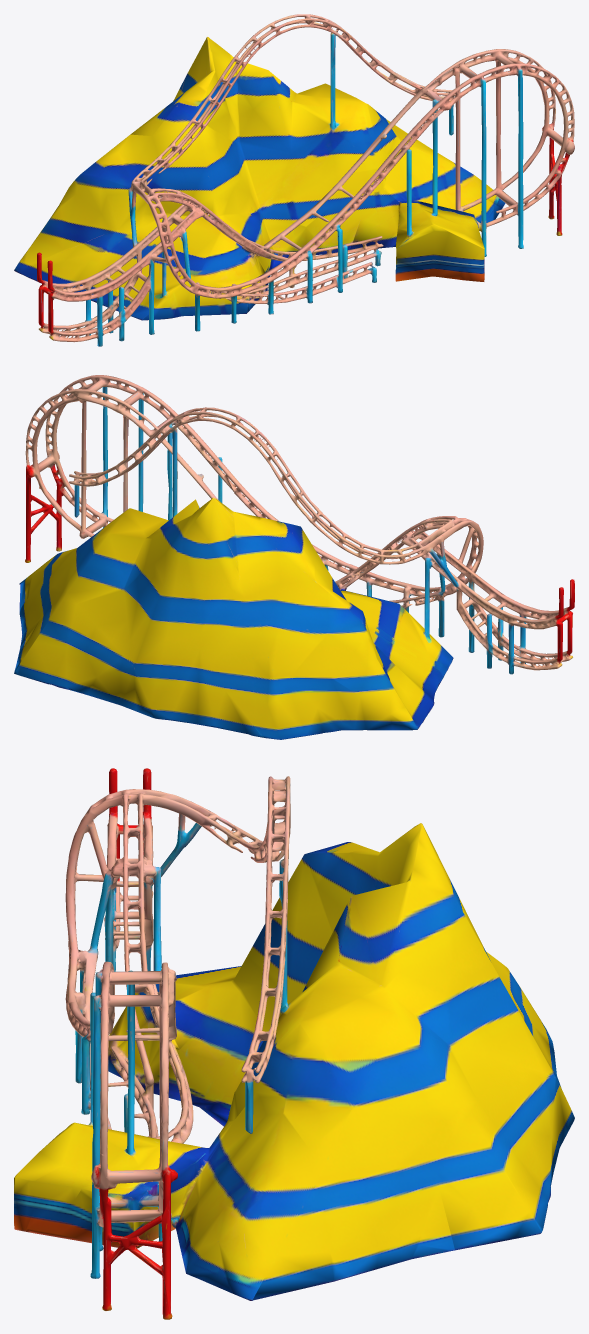
Rendered from Meshy_AI_low_poly_rollercoaste_0429165049_texture.fbx.
3 renders of one model, top to bottom at view 1: azimuth 30°, elevation 25°; view 2: azimuth 150°, elevation 25°; view 3: azimuth 270°, elevation 25°, orthographic. The views are drawn at different scales.
Visible parts, largest first — view 1: Mesh_0; view 2: Mesh_0; view 3: Mesh_0.
Part boxes in pixels (x1,y1,x2,y2): Mesh_0: (14,14,574,346); Mesh_0: (14,375,574,739); Mesh_0: (14,768,574,1319).
Size of the model in its own units: 191 by 80.49 by 113.
Materials: 1 (1 with a texture image).
